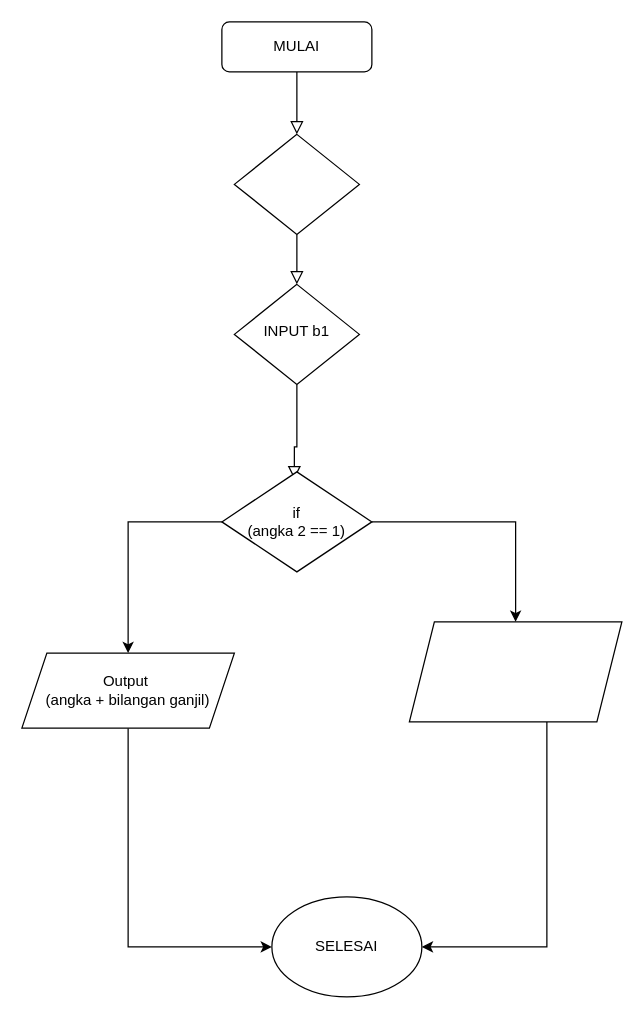
The diagram is 644 pixels wide and 1019 high, and some of its shapes have lost their labels. The centre of each missing label's shape, as x and y in pixels:
INTEGER b1: the point at 296,183
Output (angka + bilangan genap): the point at 515,671
